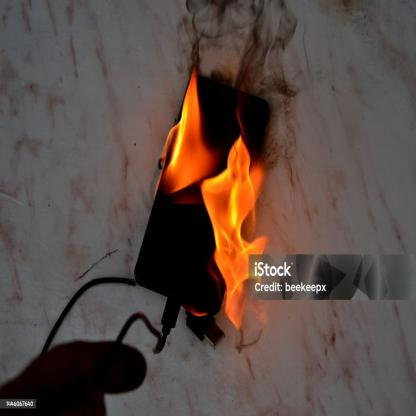fire: (155, 61, 270, 332)
smoke: (179, 0, 320, 187)
